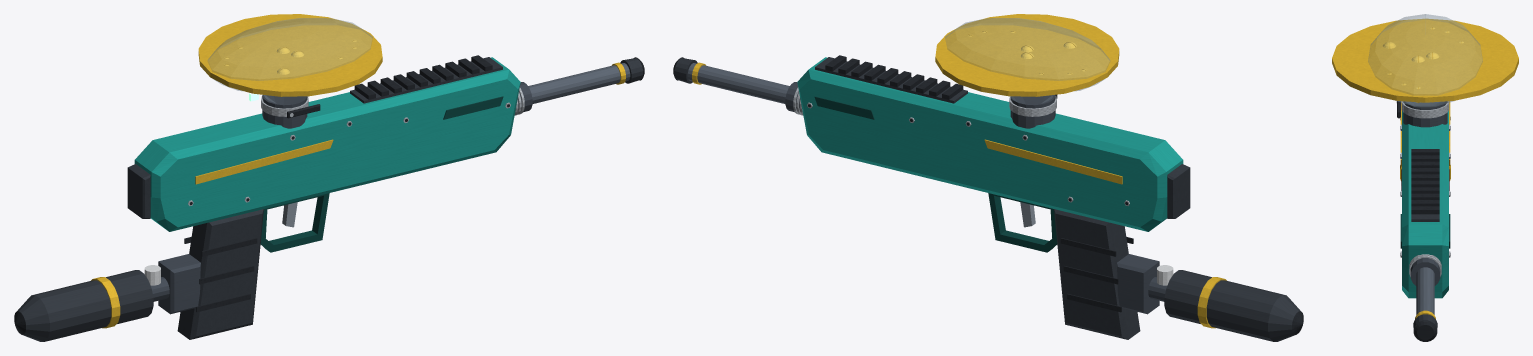
File: vanta_factory_v2.glb
3 views of the same model, side by side, from view 1: azimuth 30°, elevation 25°; view 2: azimuth 150°, elevation 25°; view 3: azimuth 270°, elevation 25° (orthographic).
Parts seen in each view (by area): view 1: body, hopper_shell, tank, barrel, stock; view 2: body, hopper_shell, tank, barrel, stock; view 3: hopper_shell, body, barrel.
Part boxes in pixels (x1=…): body: x1=134, y1=55, x2=520, y2=339; hopper_shell: x1=198, y1=14, x2=382, y2=104; tank: x1=14, y1=265, x2=169, y2=341; barrel: x1=514, y1=57, x2=644, y2=115; stock: x1=127, y1=164, x2=150, y2=218; body: x1=797, y1=55, x2=1183, y2=339; hopper_shell: x1=935, y1=14, x2=1119, y2=104; tank: x1=1148, y1=265, x2=1303, y2=341; barrel: x1=673, y1=57, x2=803, y2=115; stock: x1=1167, y1=164, x2=1190, y2=218; hopper_shell: x1=1332, y1=14, x2=1518, y2=107; body: x1=1396, y1=101, x2=1450, y2=298; barrel: x1=1409, y1=254, x2=1441, y2=341.
Size of the model in its own units: 0.7725 by 0.33 by 0.198.
Materials: 17 (13 with a texture image).
